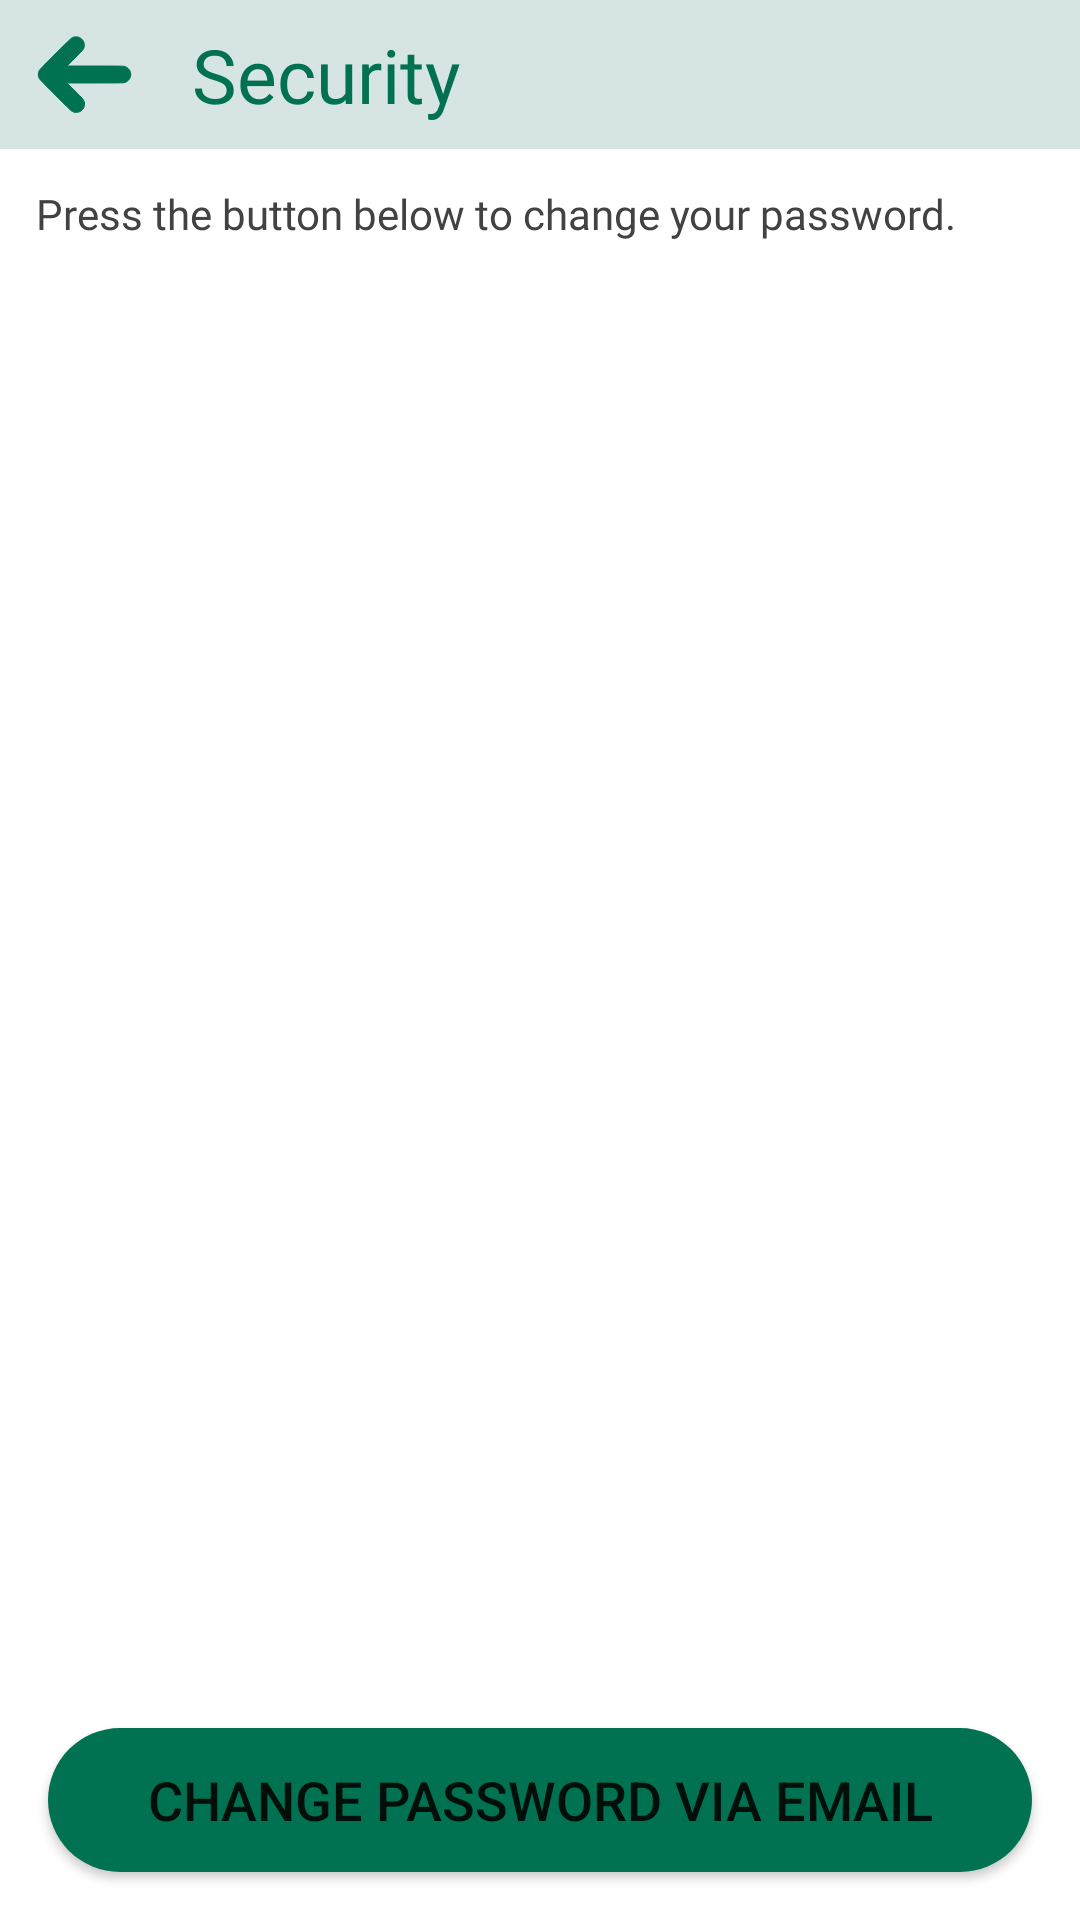

Where icons sit on this 1080w x 1920h app screen, as (x1, y1, x2, y2):
back: (37, 36, 132, 113)
